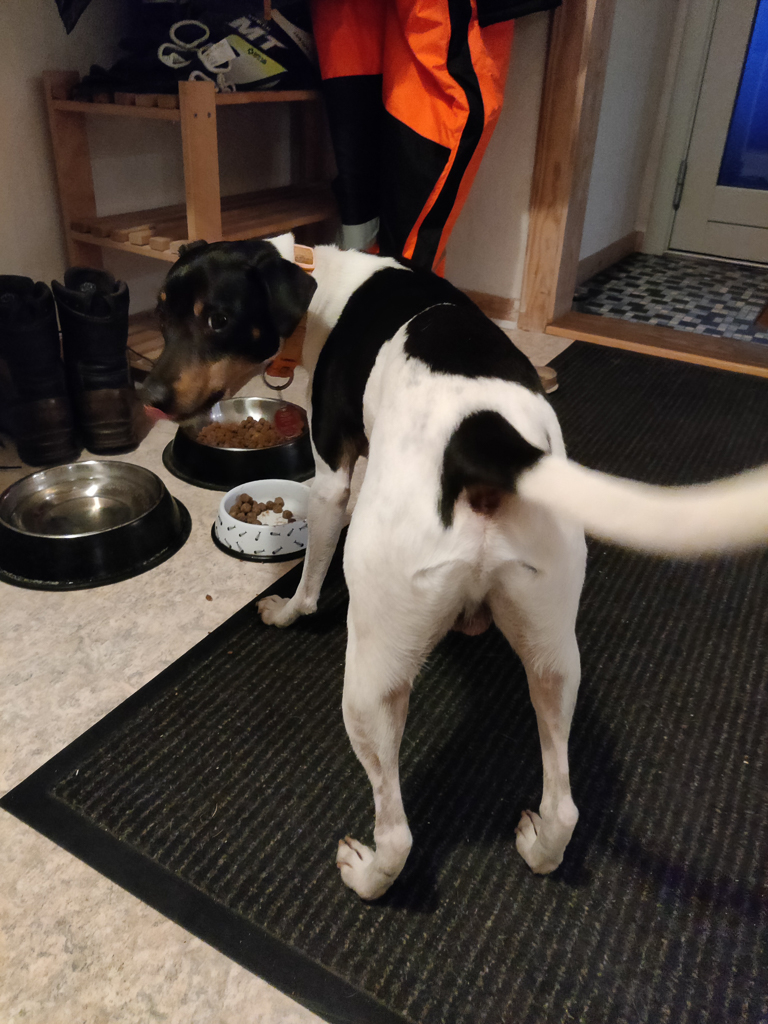Dog: (123, 205, 768, 921)
